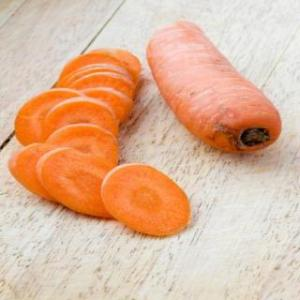carrot: (142, 20, 284, 158)
